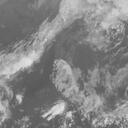cyclone: (50, 57, 111, 114)
